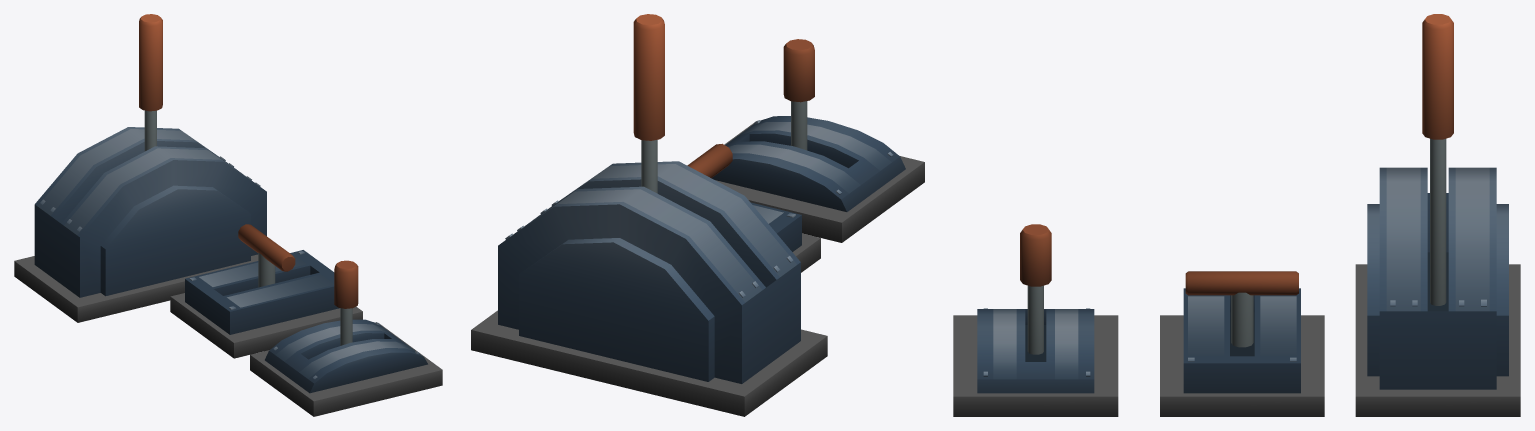
File: Levers.fbx
3 renders of one model, left to right at view 1: azimuth 30°, elevation 25°; view 2: azimuth 150°, elevation 25°; view 3: azimuth 270°, elevation 25°, orthographic. The views are drawn at different scales.
Visible parts, largest first — view 1: Lever_base.002, Lever_base, Lever_base.001, Lever.002, Lever.001, Lever; view 2: Lever_base.002, Lever_base, Lever.002, Lever, Lever_base.001, Lever.001; view 3: Lever_base.002, Lever_base.001, Lever_base, Lever.002, Lever.001, Lever.
Boxes of the visible parts, left/top/right/bottom form: Lever_base.002: left=14, top=127, right=266, bottom=322; Lever_base: left=250, top=319, right=442, bottom=416; Lever_base.001: left=170, top=250, right=362, bottom=358; Lever.002: left=139, top=14, right=162, bottom=151; Lever.001: left=238, top=224, right=295, bottom=287; Lever: left=334, top=260, right=358, bottom=345; Lever_base.002: left=471, top=161, right=827, bottom=416; Lever_base: left=711, top=116, right=924, bottom=242; Lever.002: left=633, top=14, right=664, bottom=193; Lever: left=783, top=39, right=814, bottom=150; Lever_base.001: left=750, top=202, right=820, bottom=272; Lever.001: left=687, top=143, right=732, bottom=178; Lever_base.002: left=1355, top=167, right=1520, bottom=416; Lever_base.001: left=1160, top=288, right=1324, bottom=416; Lever_base: left=953, top=308, right=1118, bottom=416; Lever.002: left=1422, top=14, right=1453, bottom=305; Lever.001: left=1185, top=271, right=1298, bottom=347; Lever: left=1020, top=224, right=1051, bottom=354.
Size of the model in its own units: 0.7205 by 0.8397 by 1.3.
